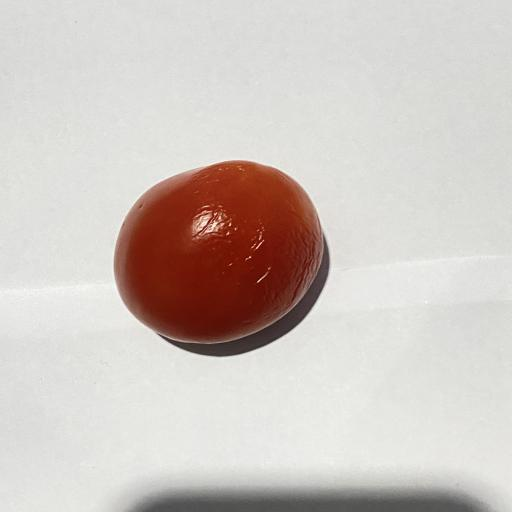overipe: (115, 161, 323, 343)
